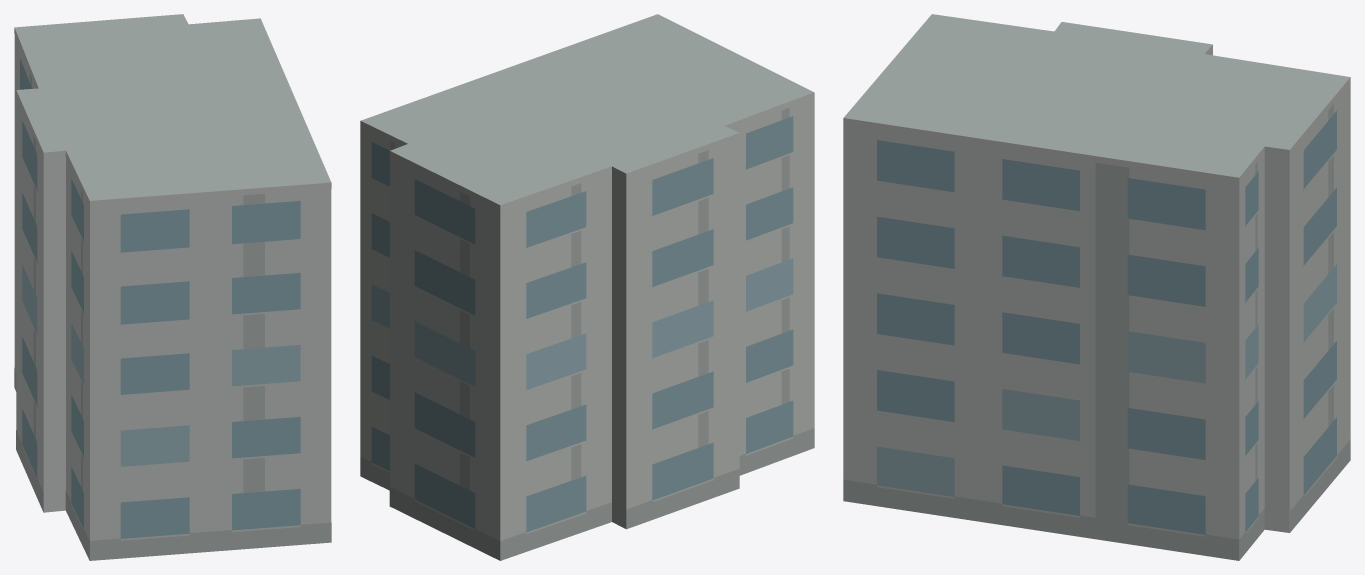
The model's file is survey-upis-32886677.glb.
3 views of the same model, side by side, from view 1: azimuth 30°, elevation 25°; view 2: azimuth 150°, elevation 25°; view 3: azimuth 270°, elevation 25° (orthographic). The views are drawn at different scales.
Parts seen in each view (by area): view 1: survey-upis-32886677.tmp; view 2: survey-upis-32886677.tmp; view 3: survey-upis-32886677.tmp.
Part boxes in pixels (bbox=[...]): survey-upis-32886677.tmp: bbox=[14, 14, 331, 560]; survey-upis-32886677.tmp: bbox=[360, 14, 814, 560]; survey-upis-32886677.tmp: bbox=[843, 14, 1350, 560].
Bounding box in the file's own units: 13.12 × 14.3 × 17.17.
